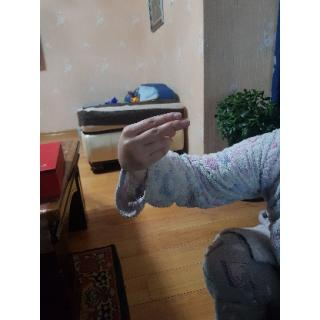AYN: (114, 109, 195, 174)
